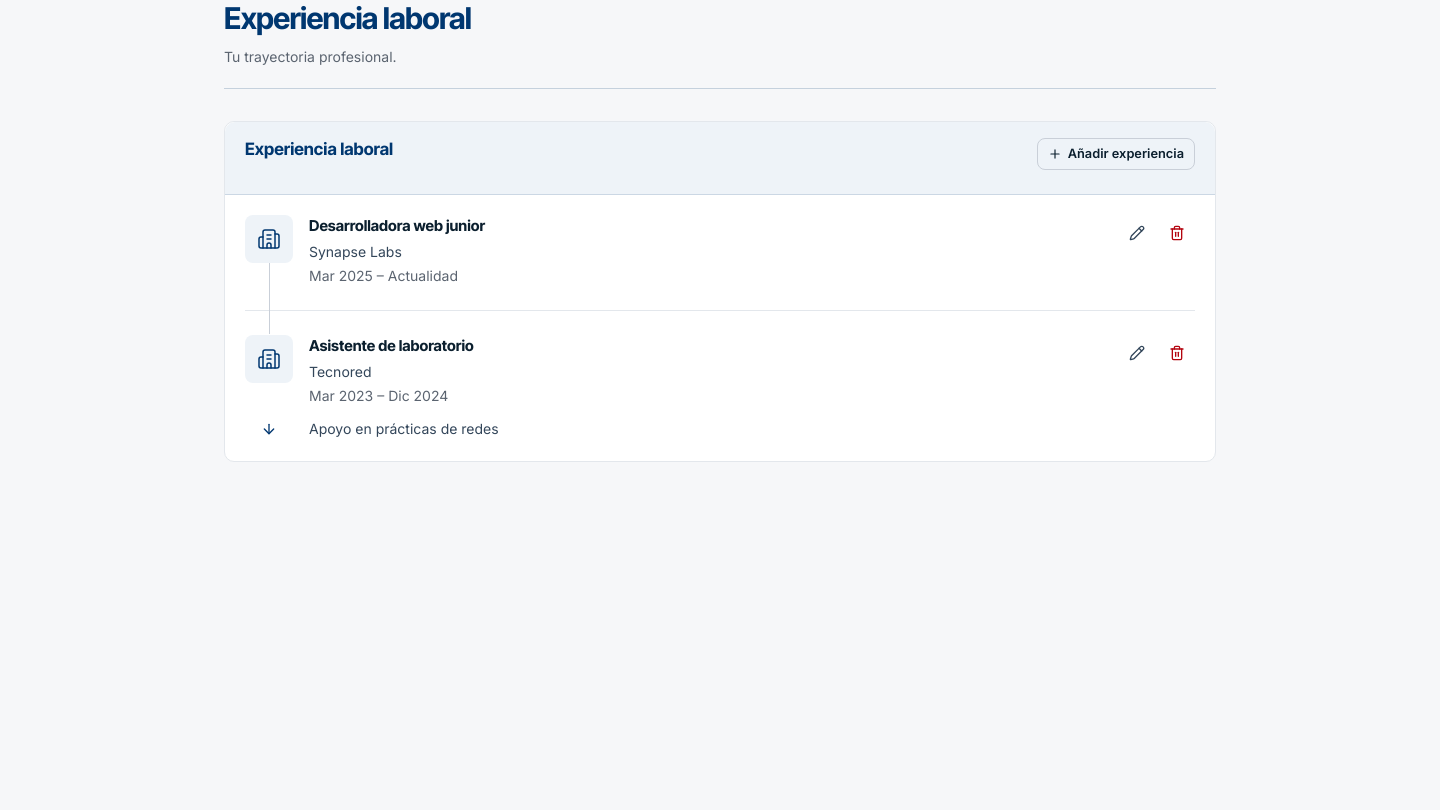
WorkExperienceView › edits an experience from the list
The width and height of the screenshot is (1440, 810).
Expected: the heading "Asistente de laboratorio" is shown, [309,336,474,355]
Click the button named "Editar Asistente de laboratorio" at [1137, 353], box [1119,335,1155,371]
(page scrolled)
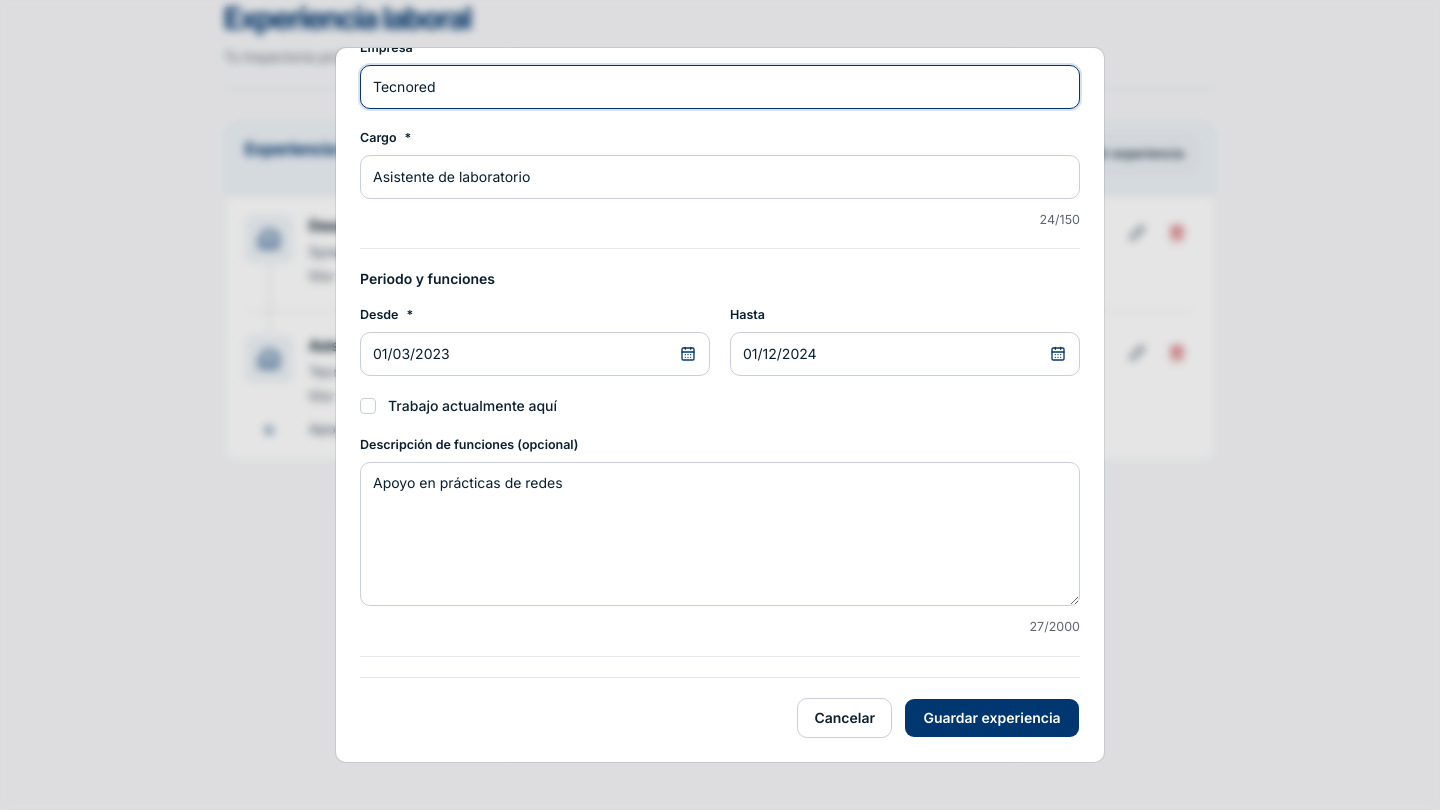
Now the form named "Editar experiencia" is shown, box [360,48,1080,738]
Now the field labelled "Empresa *" holds "Tecnored", box [360,65,1080,109]
Click the button "Guardar experiencia" at [992, 718], box [904,698,1080,738]
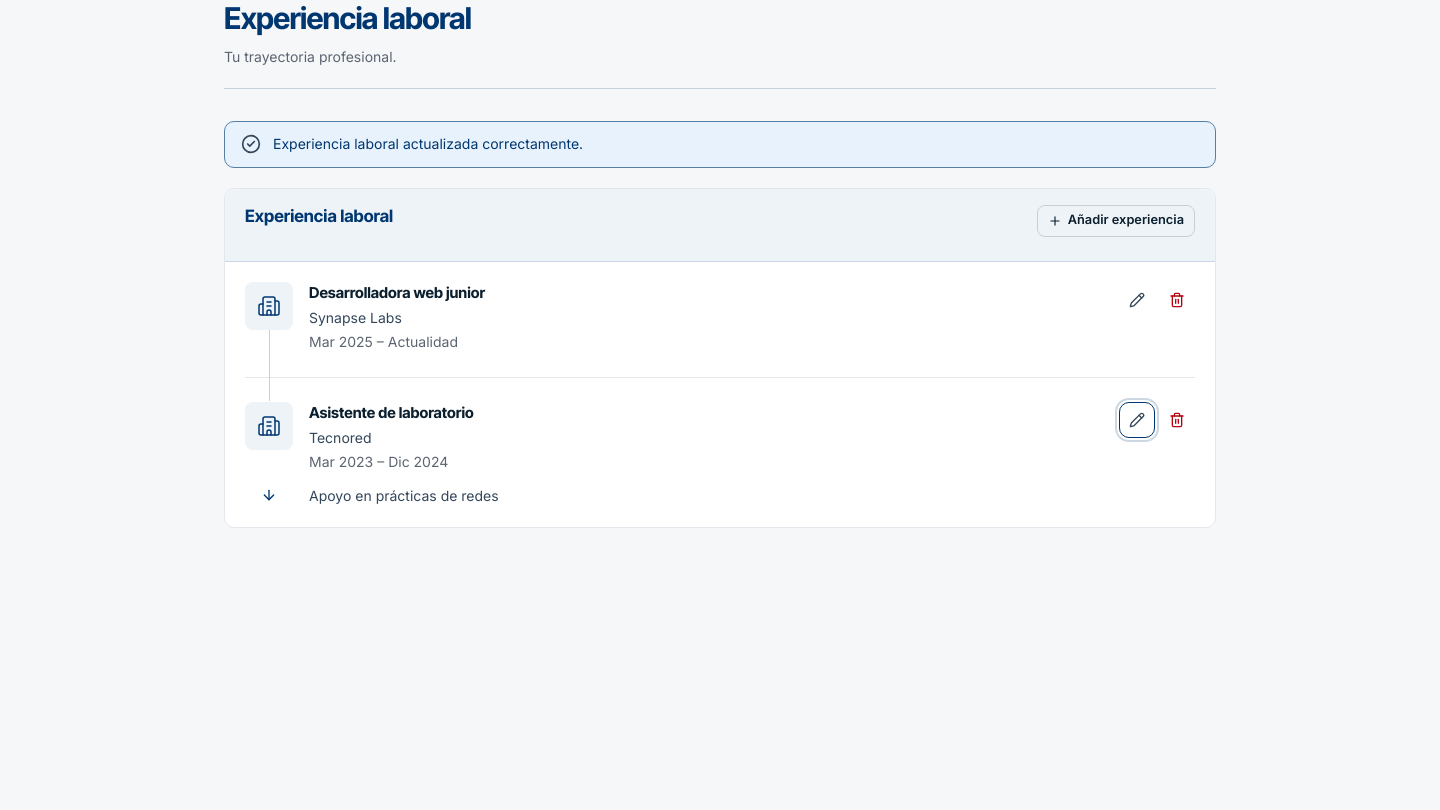
Now the message reads "Experiencia laboral actualizada correctamente.", box [273,135,583,152]
